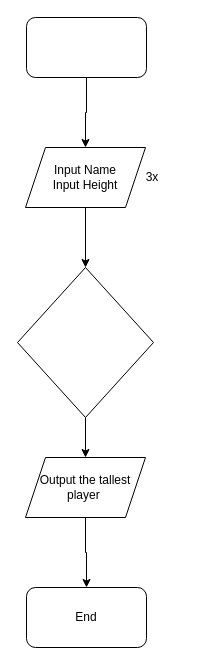
Some shapes in this 200 by 665 pixel diagram are drawn without their labels. Each missing label, with the centre of its shape:
"Find the tallest player with max()" belongs at (85,342).
"start" belongs at (86,47).
